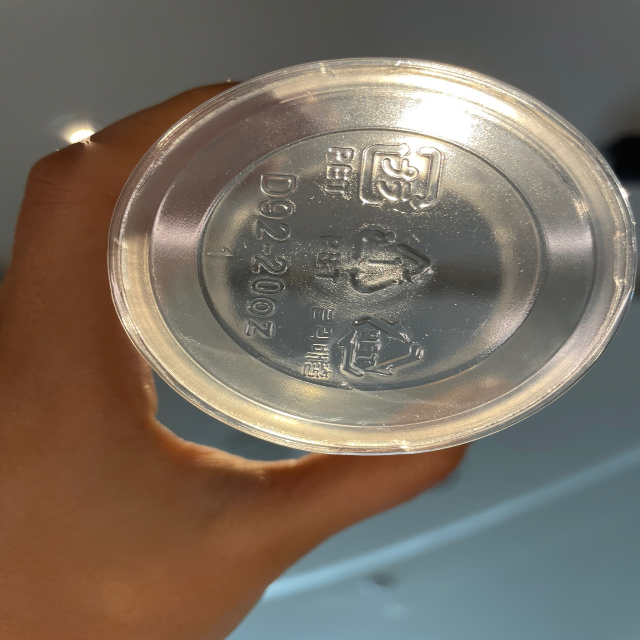pet: (302, 302, 429, 386), (317, 136, 445, 213), (309, 220, 433, 298)
